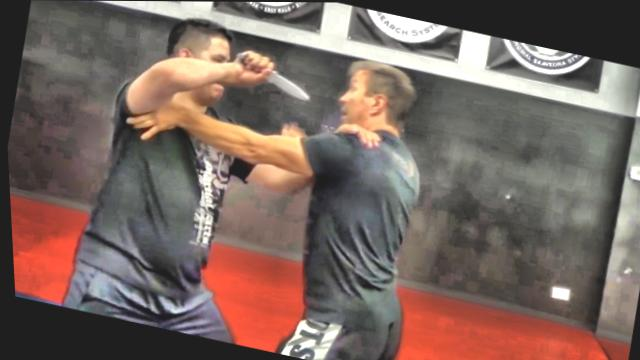knife: (230, 43, 319, 103)
